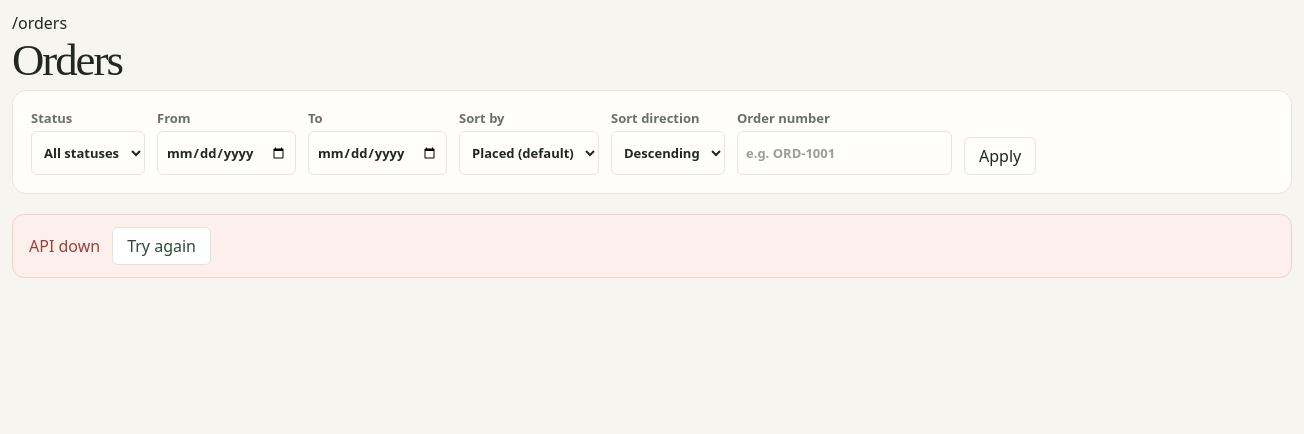
Test: OrdersListPage › shows an error and recovers via retry
Check: the message shows "API down", box [29,235,100,257]
Click the button "Try again".
click(162, 246)  # box [112,227,211,265]
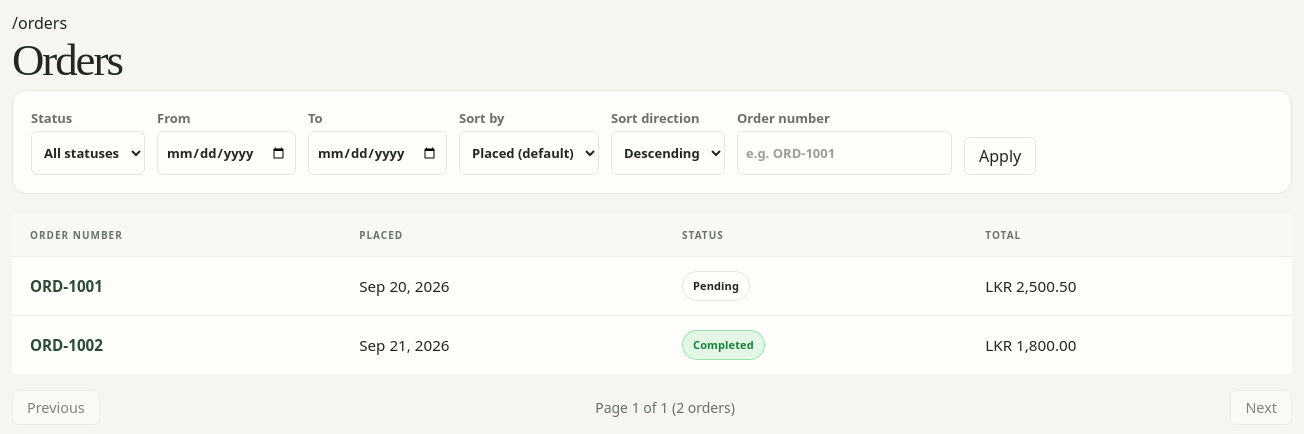
Check: the link "ORD-1001" is shown, box [30,276,103,296]
